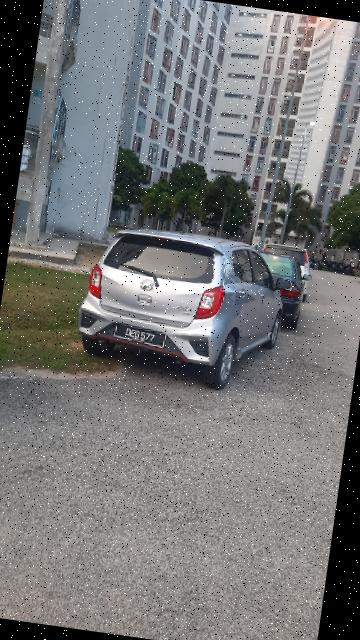License_Plate: (112, 320, 172, 352)
car: (70, 219, 295, 396)
